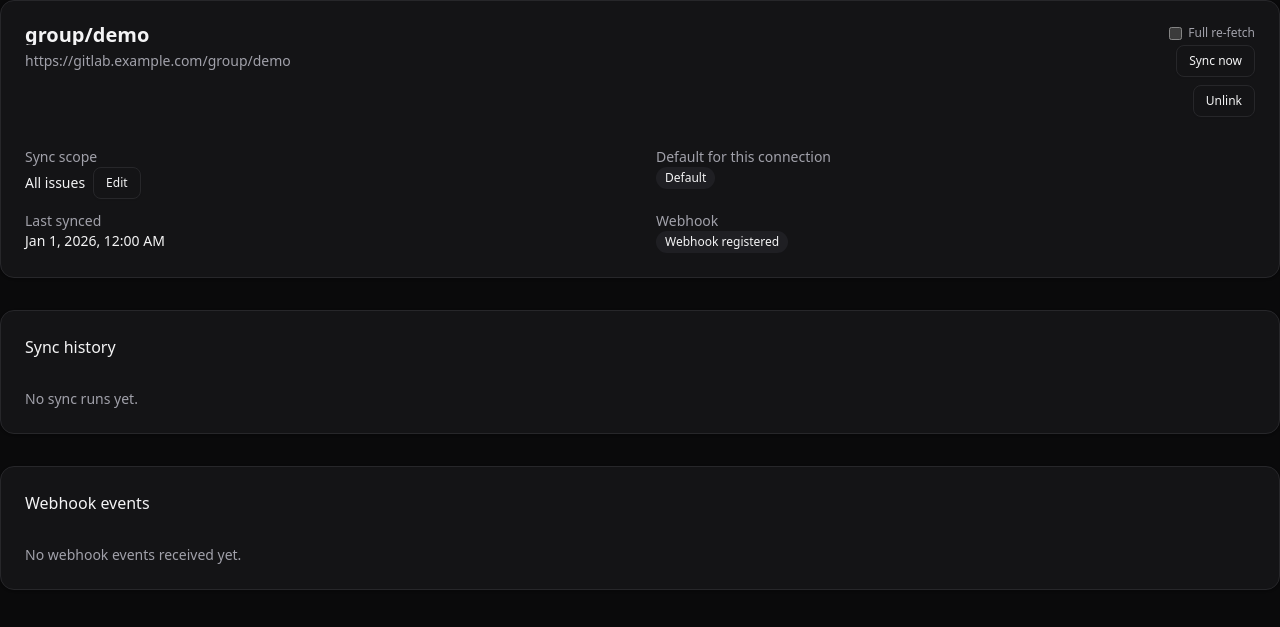
Test: LinkedGitlabProjectDetail › shows an inline error when a sync is already running
Step 1. Click the button "Sync now" → (1216, 61), box [1176,45,1255,77]
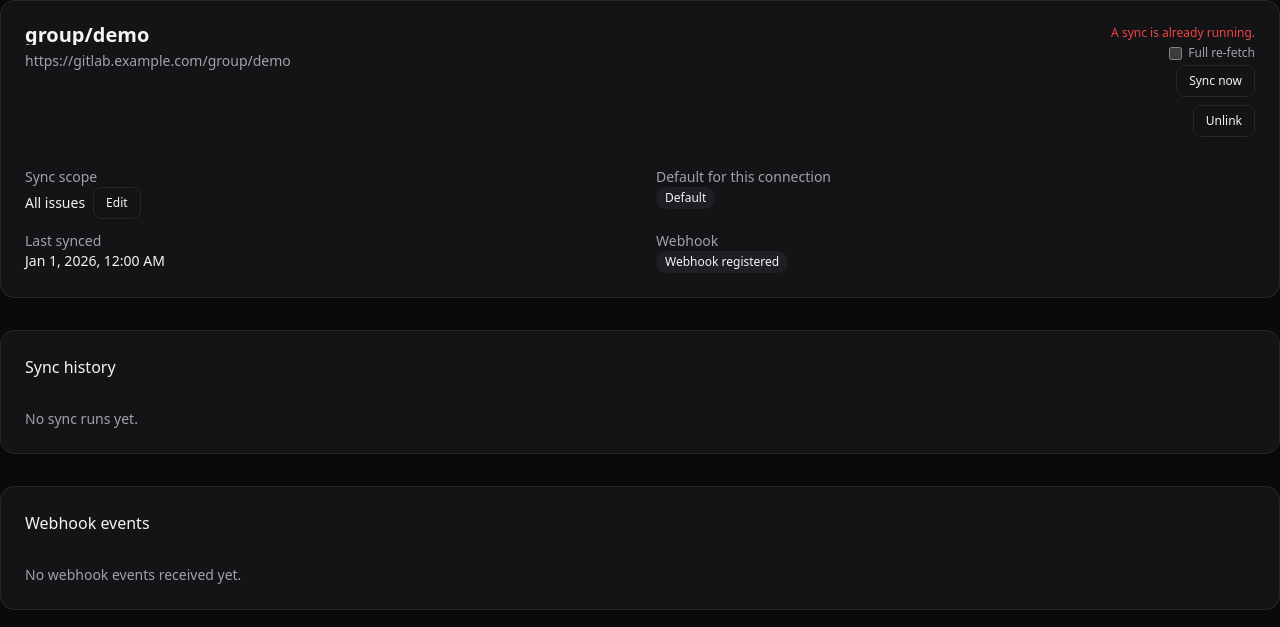
Check: the text "A sync is already running." is shown, box [1111,25,1255,41]
